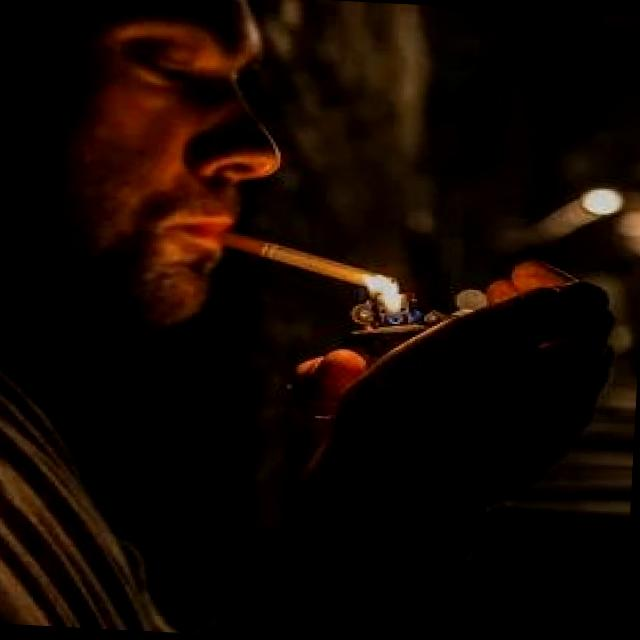cigarette: (215, 224, 402, 296)
